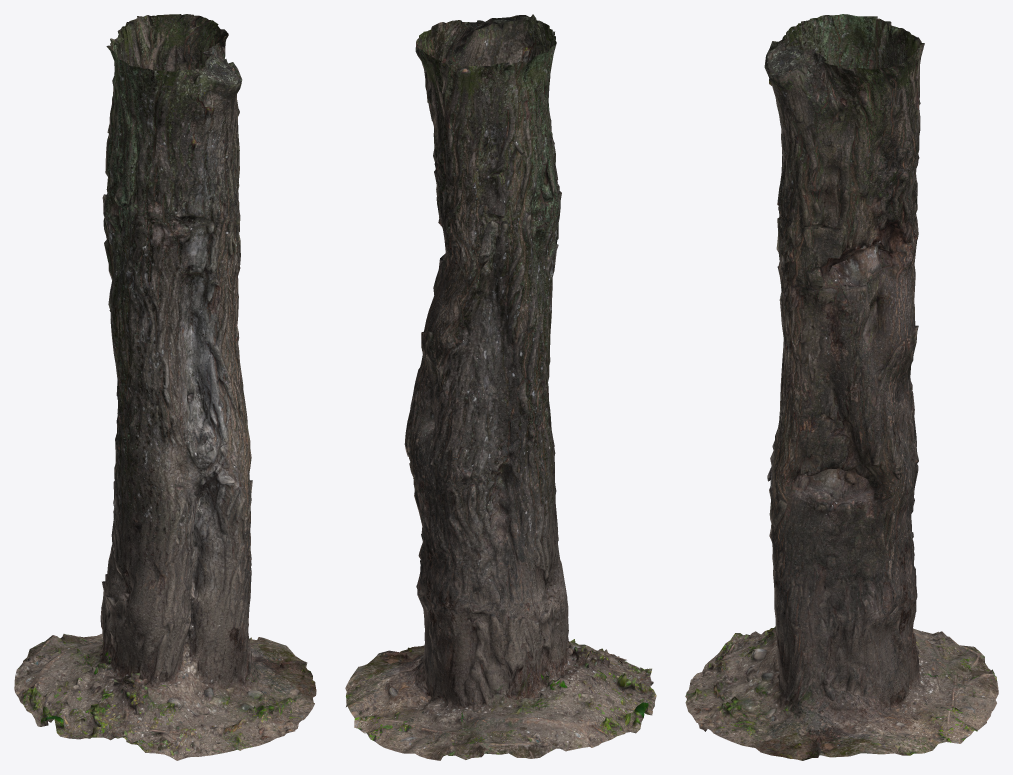
The model's file is PX_Cinnamomum_burmannii_Trunk_01_LOD0.fbx.
The picture shows the model from 3 angles, left to right: view 1: azimuth 30°, elevation 25°; view 2: azimuth 150°, elevation 25°; view 3: azimuth 270°, elevation 25°; orthographic projection. The views are drawn at different scales.
Visible parts, largest first — view 1: PX_Cinnamomum_burmannii_Trunk_01_LOD0; view 2: PX_Cinnamomum_burmannii_Trunk_01_LOD0; view 3: PX_Cinnamomum_burmannii_Trunk_01_LOD0.
Part boxes in pixels (x1=…): PX_Cinnamomum_burmannii_Trunk_01_LOD0: x1=14, y1=14, x2=316, y2=760; PX_Cinnamomum_burmannii_Trunk_01_LOD0: x1=345, y1=14, x2=656, y2=760; PX_Cinnamomum_burmannii_Trunk_01_LOD0: x1=685, y1=14, x2=998, y2=760.
Size of the model in its own units: 99.31 by 237 by 101.
